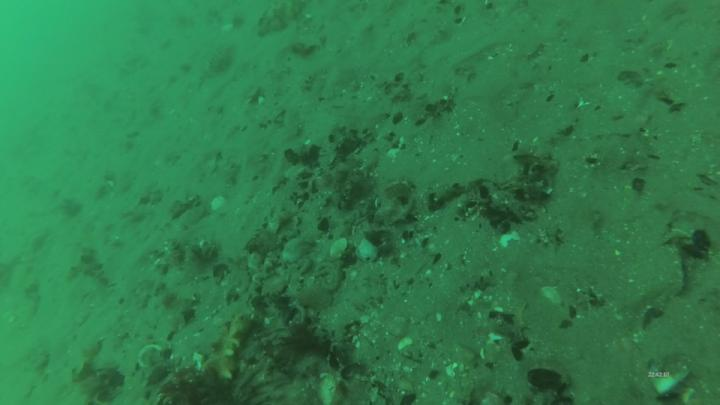holothurian: (207, 314, 253, 384)
